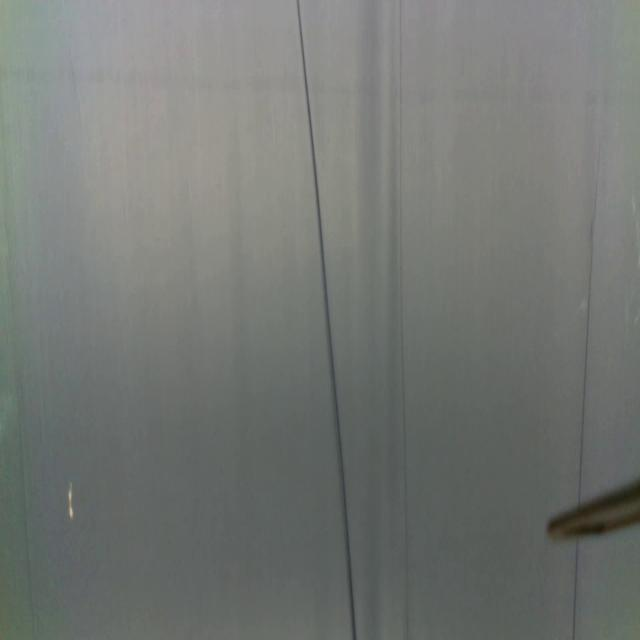crease: (296, 0, 358, 640), (395, 0, 411, 640), (578, 140, 602, 496), (572, 542, 580, 640)
hole: (68, 482, 75, 522)
